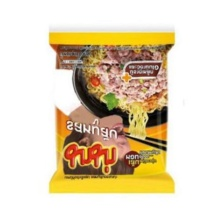snack: (42, 27, 180, 200)
